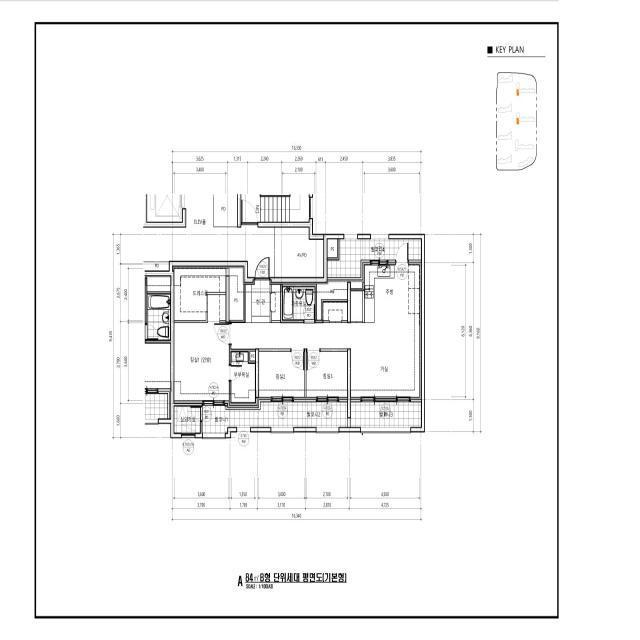space_balconi: (202, 402, 347, 433), (328, 239, 421, 277), (351, 402, 421, 427)
space_bedroom: (174, 295, 229, 404), (259, 352, 304, 400), (306, 352, 347, 400)
space_dressroom: (172, 265, 226, 320)
space_elevator_hall: (143, 195, 274, 277)
space_front: (246, 280, 280, 322)
space_kitchen: (362, 262, 422, 323)
space_living_room: (231, 323, 422, 400)
space_other: (275, 228, 323, 277), (317, 279, 347, 320), (229, 266, 244, 320), (214, 195, 237, 226), (323, 303, 347, 321), (351, 291, 363, 321), (144, 262, 169, 270), (328, 239, 337, 257), (351, 279, 362, 288), (250, 352, 255, 361)
space_outdoor_room: (174, 407, 200, 433)
space_staircase: (241, 194, 309, 222)
space_toilet: (231, 352, 255, 402), (283, 287, 315, 319)
